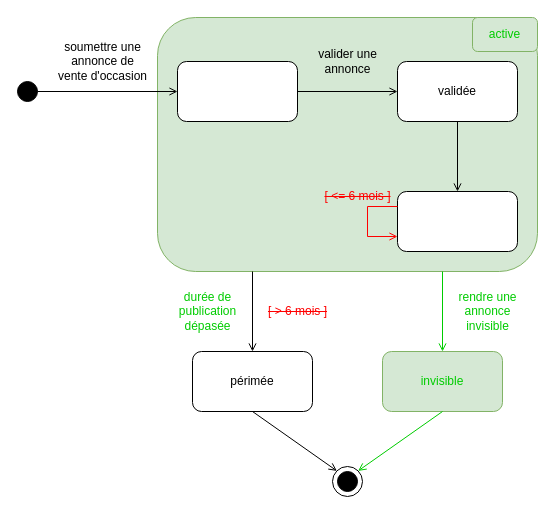
Some shapes in this 555 by 514 pixel diagram are drawn without their labels. The shapes that lost their labels are listed below. From the top down, each one's centre as x and y in pixels, then its label:
point (237, 91): soumise
point (457, 221): publiée
